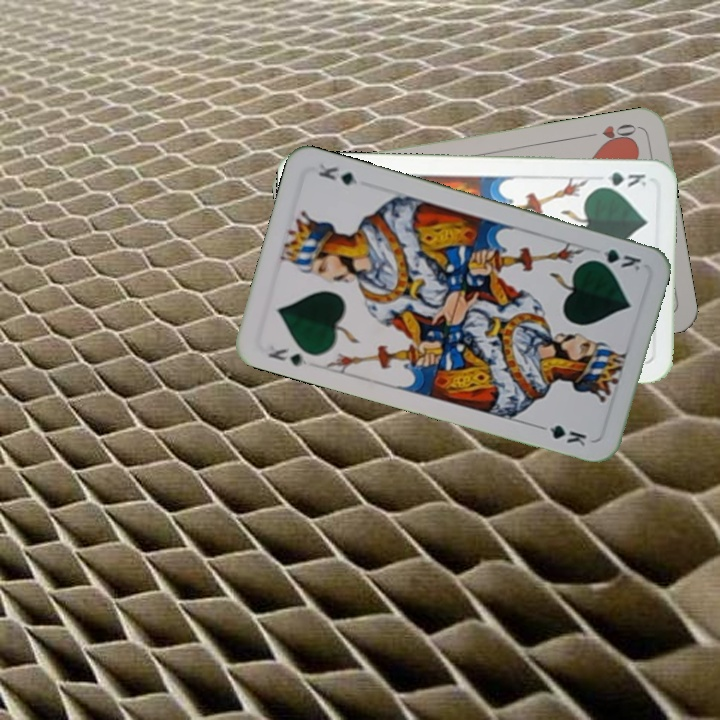GK: (586, 245, 644, 275), (592, 168, 649, 190), (264, 343, 311, 369)
HO: (582, 119, 641, 148)
